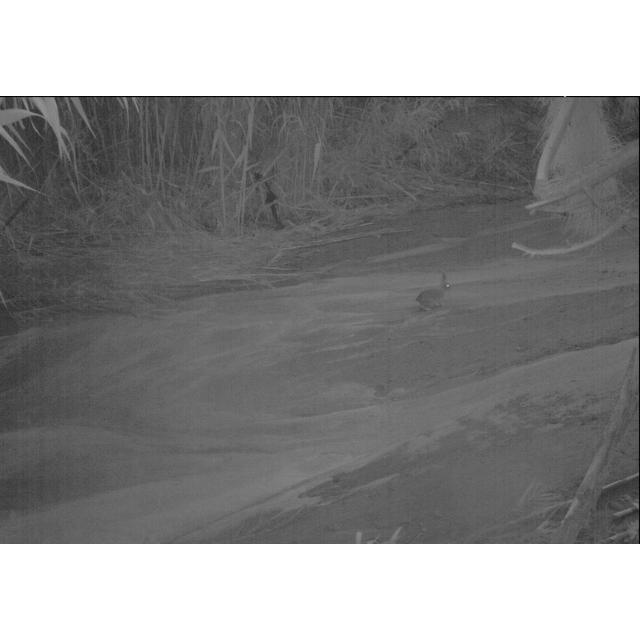animals: (414, 270, 458, 314)
